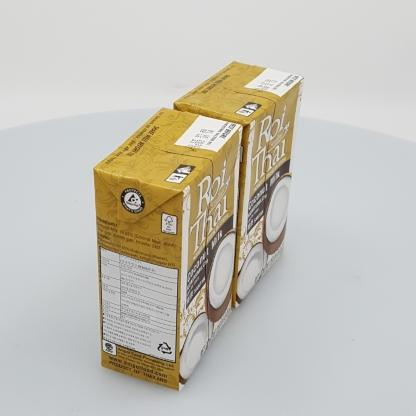-------------: (93, 106, 244, 391), (172, 61, 305, 308)
